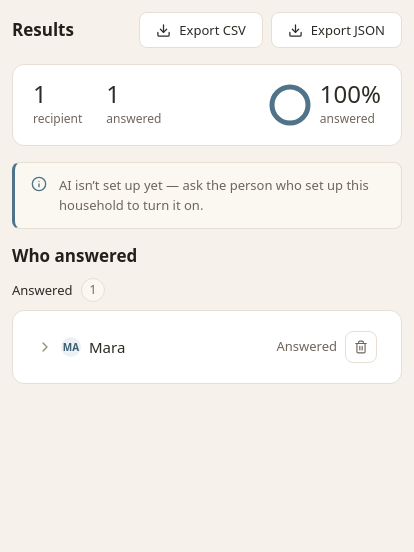
Test: QuestionnaireResults › exports results to a file outside the vault and confirms the path (38 §3.7)
Click the button with aria-label "Expand ".
click(153, 347)  # box [37,337,268,357]
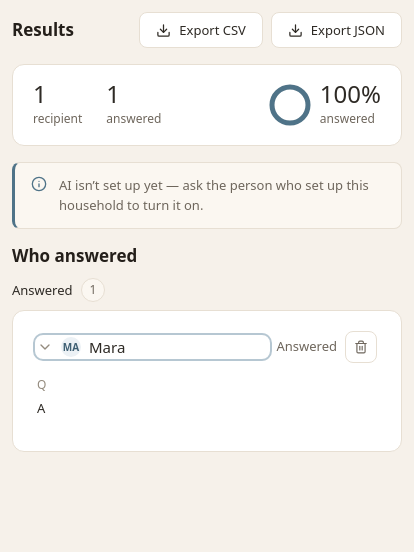
Check: the text "Mara" is shown, box [89,338,125,356]
Click the button "Export CSV".
click(201, 30)  # box [139,12,263,48]
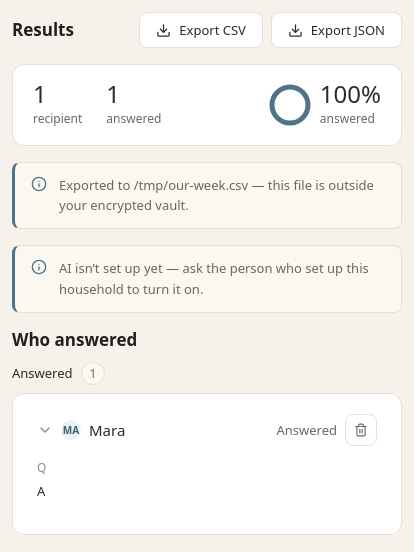
Check: the text "outside your encrypted vault" is shown, box [59,176,374,214]
